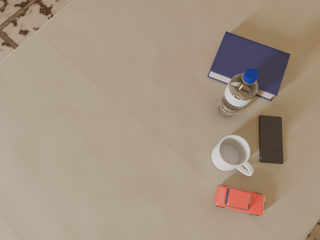book: (208, 31, 290, 101)
bottle: (217, 69, 258, 118)
cup: (212, 135, 254, 176)
phone: (259, 115, 283, 164)
toy_car: (215, 185, 265, 216)
